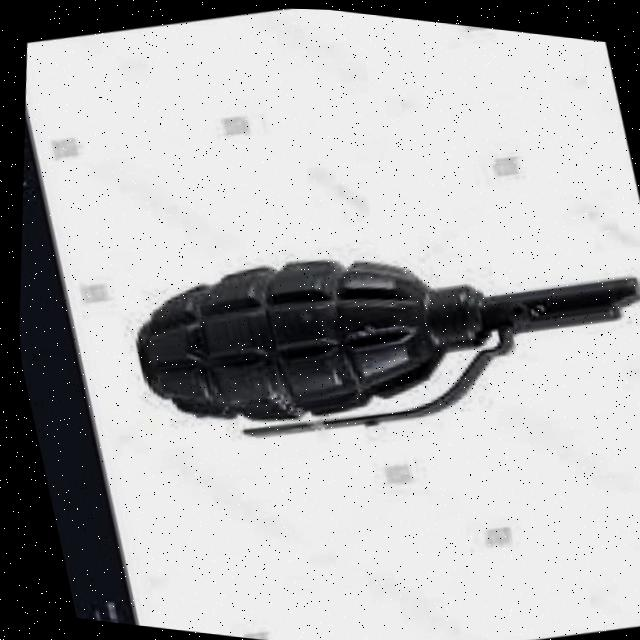grenade: (87, 147, 640, 509)
